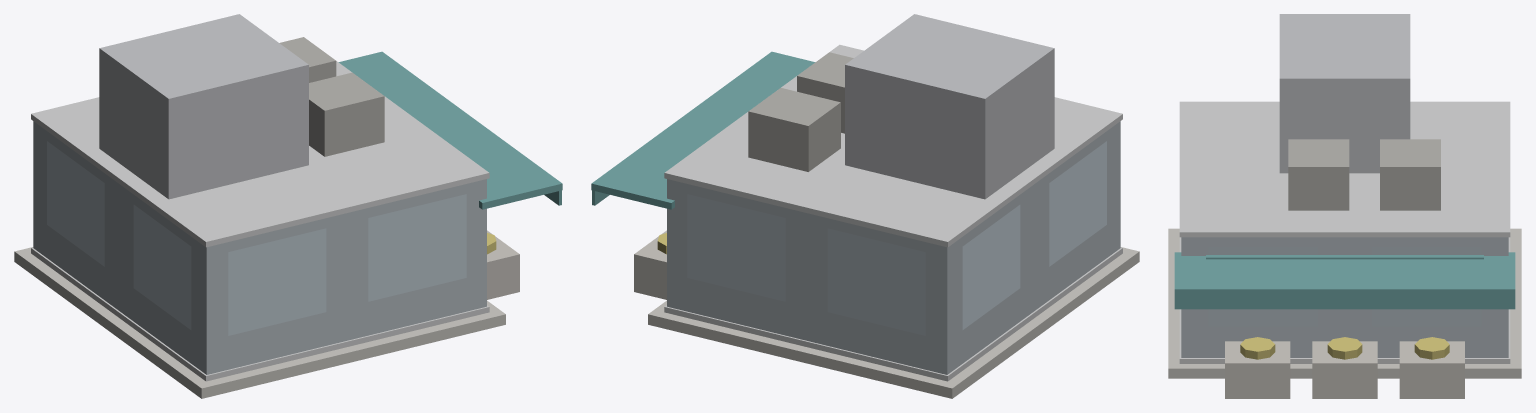
File: 12_food_market-01.glb
3 renders of one model, left to right at view 1: azimuth 30°, elevation 25°; view 2: azimuth 150°, elevation 25°; view 3: azimuth 270°, elevation 25°, orthographic. The views are drawn at different scales.
Size of the model in its own units: 9.1 by 5.98 by 8.1.
